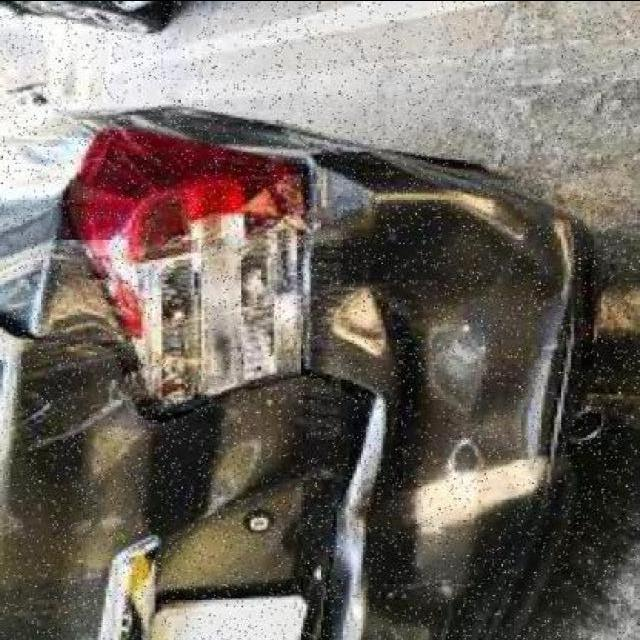Taillight-Damage: (60, 128, 301, 415)
rear-bumper-dent: (326, 146, 593, 640)
